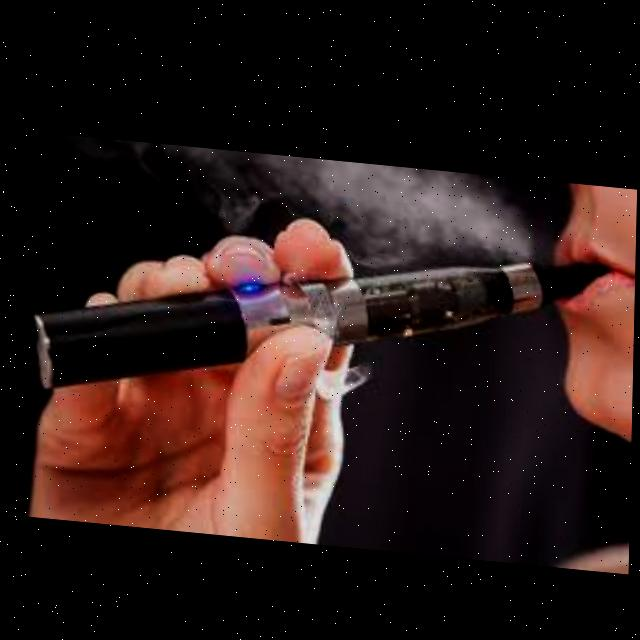vape: (34, 201, 602, 430)
